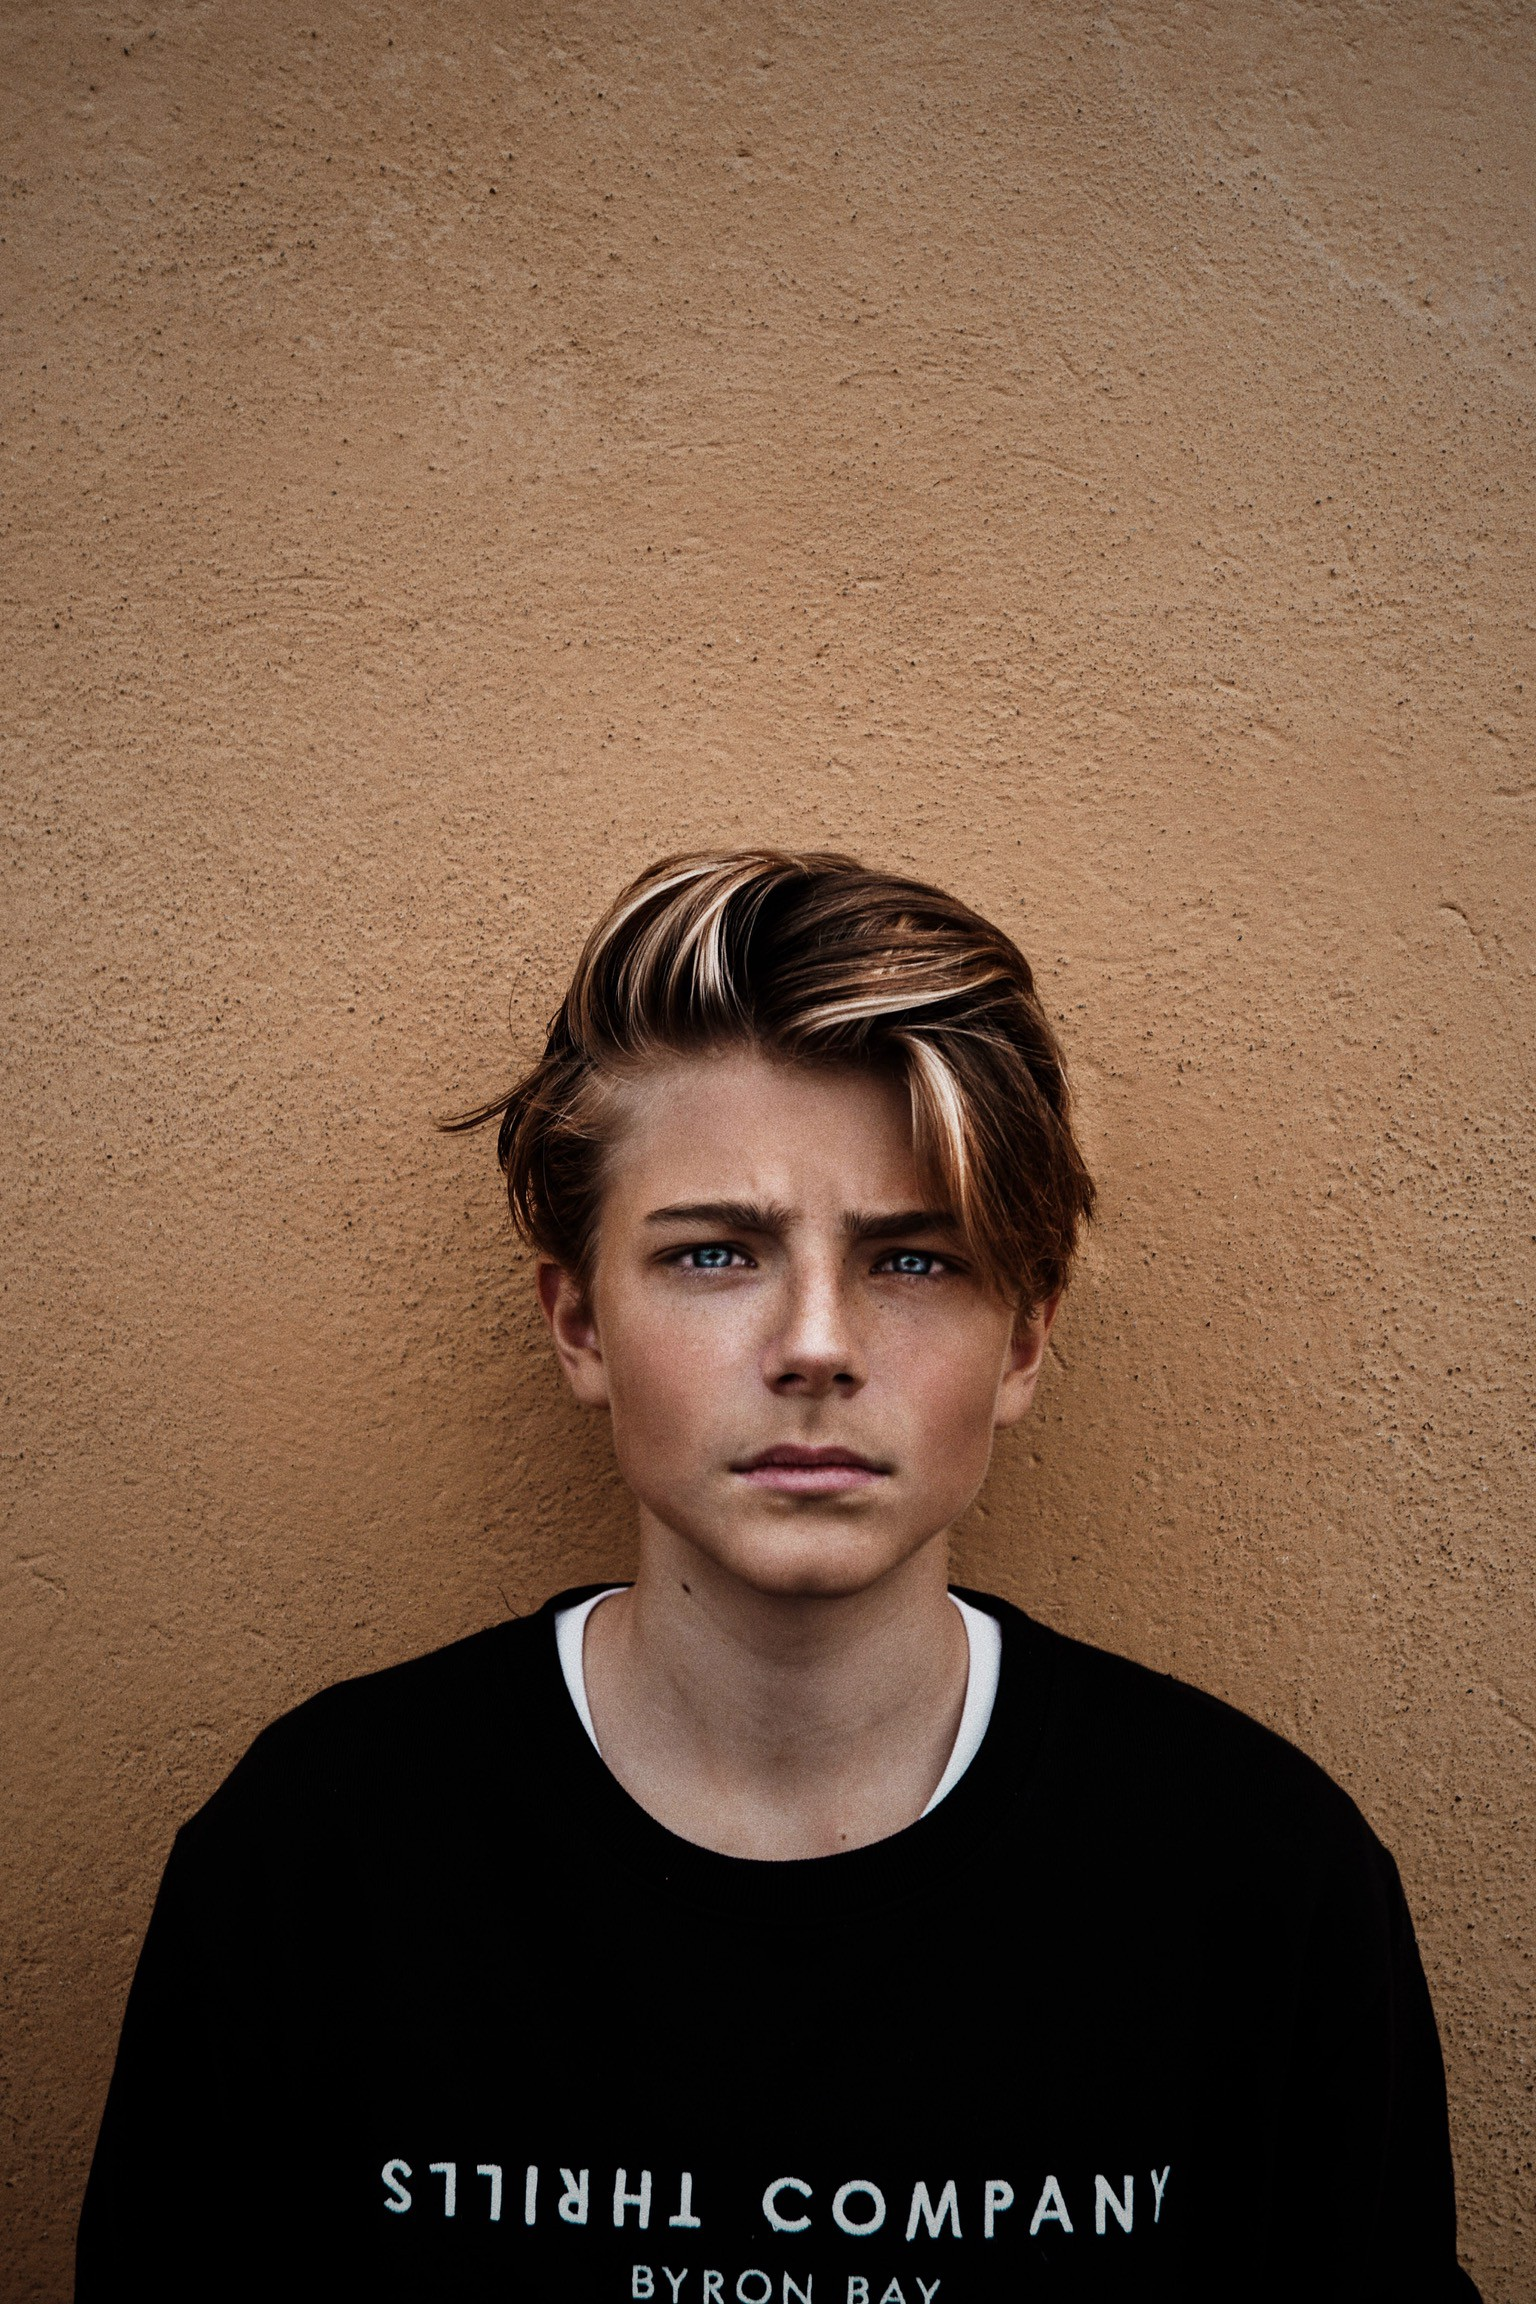BOY: (540, 919, 1062, 1598)
